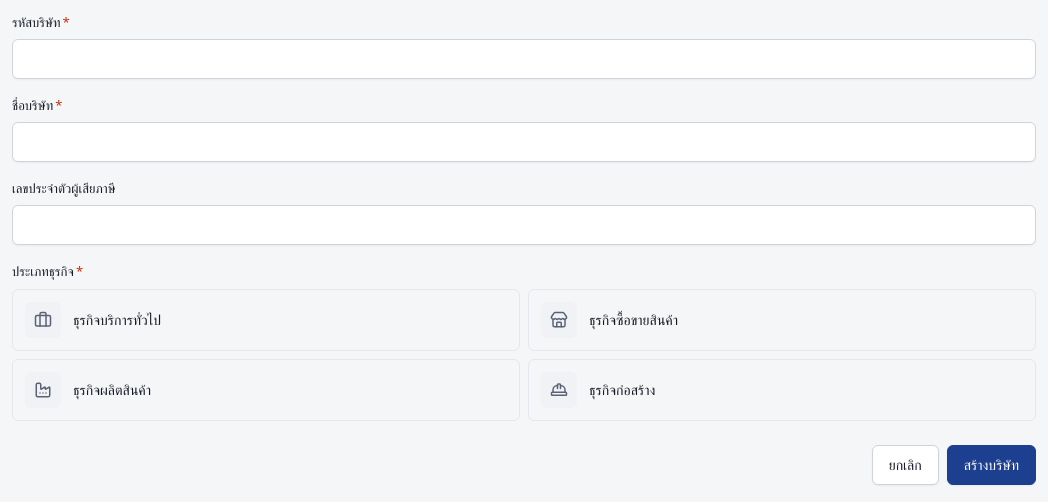
Test: CompanyForm — ประเภทธุรกิจ › เลือกด้วยคีย์บอร์ด (ลูกศร) ได้
This screenshot has width=1048, height=502.
Click the radio button labelled "ธุรกิจบริการทั่วไป".
click(43, 320)  # box top-left (12, 288), bottom-right (520, 350)
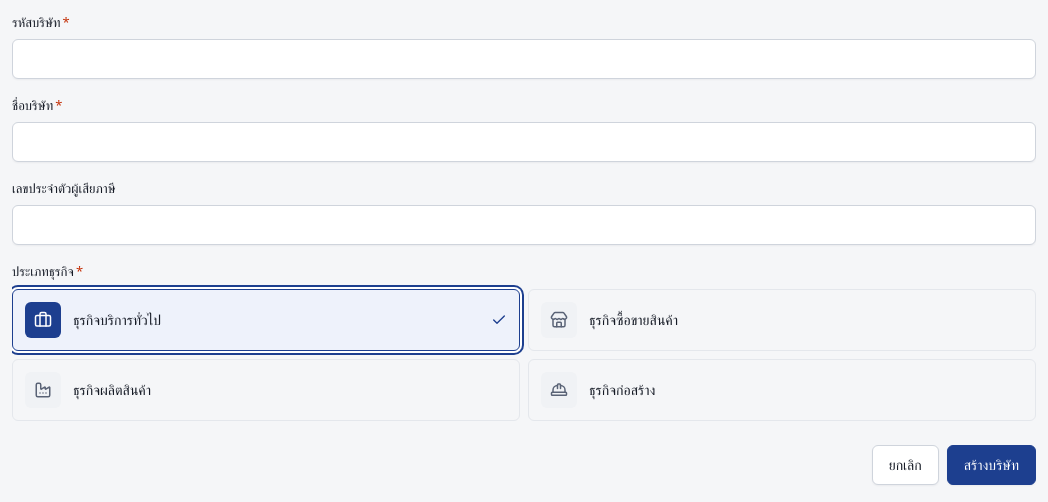
Press Arrowdown
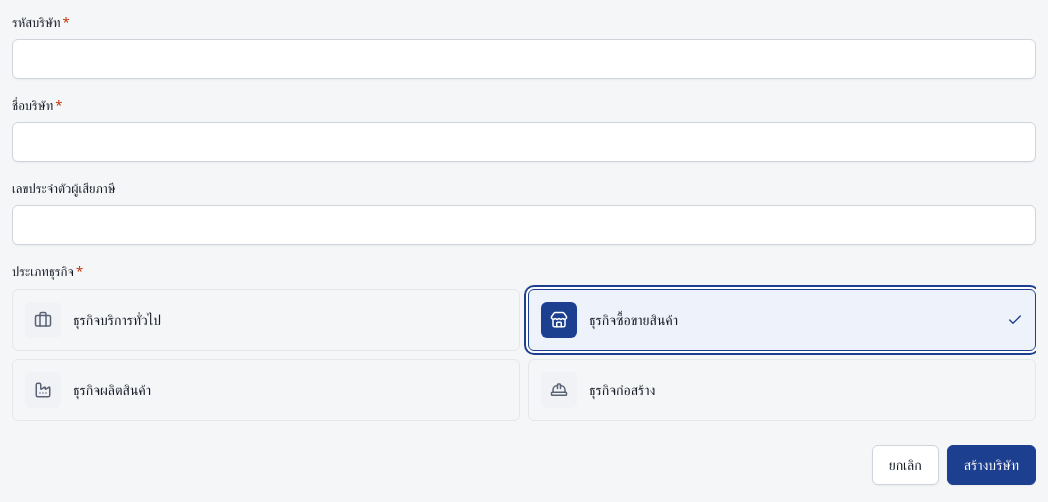
Check: the radio button labelled "ธุรกิจซื้อขายสินค้า" is checked, box top-left (528, 288), bottom-right (1036, 350)
